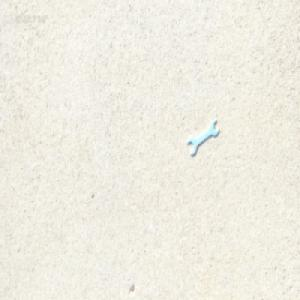Wrench: (188, 119, 219, 155)
